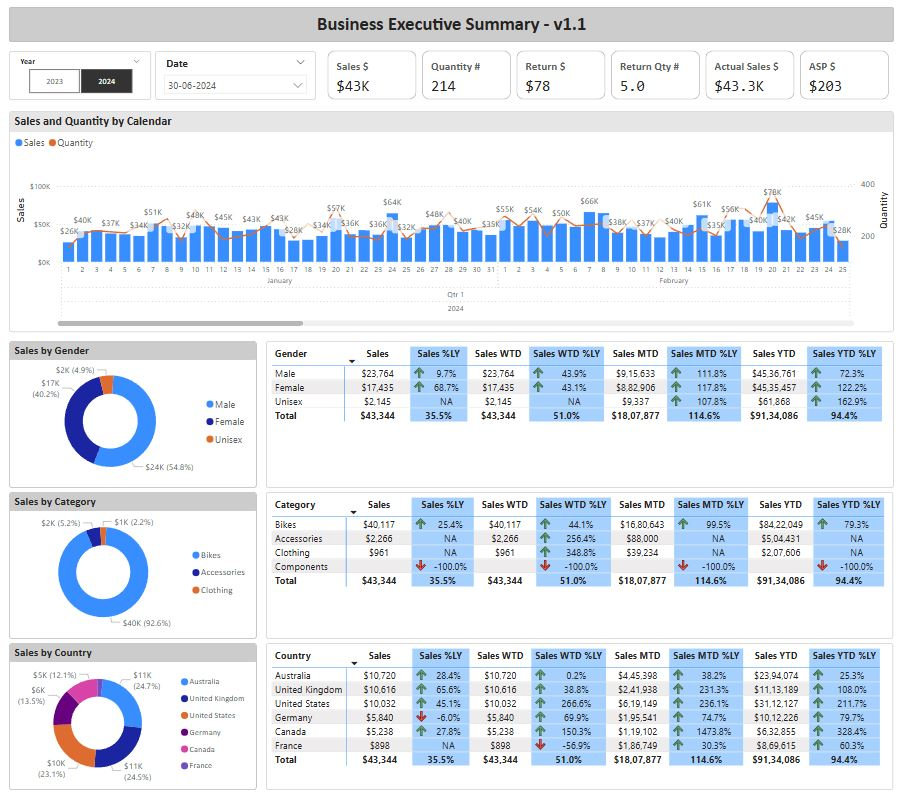

Layout of this report page (visuals, bound fields, positions):
{"tool":"powerbi","page":{"name":"Executive Summary v1.1","canvas":[1300,1500],"ordinal":1},"visuals":[{"type":"lineStackedColumnComboChart","title":"Sales and Quantity by Calendar","fields":{"Category":["AW_Calendar.Date.Variation.Date Hierarchy.Year","AW_Calendar.Date.Variation.Date Hierarchy.Quarter","AW_Calendar.Date.Variation.Date Hierarchy.Month","AW_Calendar.Date.Variation.Date Hierarchy.Day"],"Y":["All_Measures.Total_Sales_CY"],"Y2":["All_Measures.Total_Qty_CY"]},"box":[18.6,165.7,1264.3,315.7],"z":0},{"type":"slicer","fields":{"Values":["AW_Calendar.Year"]},"box":[18.6,80,202.9,70],"z":1000},{"type":"textbox","box":[18.6,17.1,1264.3,50],"z":2000},{"type":"donutChart","fields":{"Category":["AW_Customers.Gender"],"Y":["All_Measures.Total_Sales_CY"]},"box":[18.6,494.3,354.3,210],"z":3000},{"type":"donutChart","fields":{"Category":["AW_Product_Category.CategoryName"],"Y":["All_Measures.Total_Sales_CY"]},"box":[18.6,710,354.3,210],"z":4000},{"type":"donutChart","fields":{"Category":["AW_Territories.Country"],"Y":["All_Measures.Total_Sales_CY"]},"box":[18.6,925.7,354.3,210],"z":5000},{"type":"slicer","fields":{"Values":["AW_Calendar.Date"]},"box":[227.1,80,230,70],"z":6000},{"type":"pivotTable","fields":{"Values":["All_Measures.Total_Sales_CY","All_Measures.Total_Sales_PoP%","All_Measures.Total_Sales_WTD_CY","All_Measures.Total_Sales_WTD_PoP%","All_Measures.Total_Sales_MTD_CY","All_Measures.Total_Sales_MTD_PoP%","All_Measures.Total_Sales_YTD_CY","All_Measures.Total_Sales_YTD_PoP%"],"Rows":["AW_Customers.Gender"]},"box":[385.7,494.3,897.1,210],"z":7000},{"type":"donutChart","fields":{"Category":["AW_Product_Subcategory.SubcategoryName"],"Y":["All_Measures.Total_Sales_CY"]},"box":[18.6,1142.9,354.3,338.6],"z":8000},{"type":"cardVisual","fields":{"Data":["All_Measures.Total_Sales_CY","All_Measures.Total_Qty_CY","All_Measures.Return_Amount_CY","All_Measures.Return_Qty_CY","All_Measures.Actual_Sales_CY","All_Measures.ASP_CY"]},"box":[468.6,74.3,814.3,80],"z":9000},{"type":"pivotTable","fields":{"Values":["All_Measures.Total_Sales_CY","All_Measures.Total_Sales_PoP%","All_Measures.Total_Sales_WTD_CY","All_Measures.Total_Sales_WTD_PoP%","All_Measures.Total_Sales_MTD_CY","All_Measures.Total_Sales_MTD_PoP%","All_Measures.Total_Sales_YTD_CY","All_Measures.Total_Sales_YTD_PoP%"],"Rows":["AW_Product_Category.CategoryName"]},"box":[386.2,710,896.2,210],"z":10000},{"type":"pivotTable","fields":{"Values":["All_Measures.Total_Sales_CY","All_Measures.Total_Sales_PoP%","All_Measures.Total_Sales_WTD_CY","All_Measures.Total_Sales_WTD_PoP%","All_Measures.Total_Sales_MTD_CY","All_Measures.Total_Sales_MTD_PoP%","All_Measures.Total_Sales_YTD_CY","All_Measures.Total_Sales_YTD_PoP%"],"Rows":["AW_Territories.Country"]},"box":[386.2,926.2,896.2,210],"z":11000},{"type":"pivotTable","fields":{"Values":["All_Measures.Total_Sales_CY","All_Measures.Total_Sales_PoP%","All_Measures.Total_Sales_WTD_CY","All_Measures.Total_Sales_WTD_PoP%","All_Measures.Total_Sales_MTD_CY","All_Measures.Total_Sales_MTD_PoP%","All_Measures.Total_Sales_YTD_CY","All_Measures.Total_Sales_YTD_PoP%"],"Rows":["AW_Product_Subcategory.SubcategoryName"]},"box":[386.2,1142.5,896.2,338.8],"z":12000}]}

Visuals, with their boxes on the page's 1300x1500 design canvas (x1, y1, x2, y2). These are canvas units, not pixel positions in the 901x794 screenshot, which may show the page scaled, cropped or inside an application window:
"Sales and Quantity by Calendar" lineStackedColumnComboChart: l=19, t=166, r=1283, b=481
slicer - AW_Calendar.Year: l=19, t=80, r=222, b=150
textbox: l=19, t=17, r=1283, b=67
donutChart - AW_Customers.Gender x All_Measures.Total_Sales_CY: l=19, t=494, r=373, b=704
donutChart - AW_Product_Category.CategoryName x All_Measures.Total_Sales_CY: l=19, t=710, r=373, b=920
donutChart - AW_Territories.Country x All_Measures.Total_Sales_CY: l=19, t=926, r=373, b=1136
slicer - AW_Calendar.Date: l=227, t=80, r=457, b=150
pivotTable - All_Measures.Total_Sales_CY x All_Measures.Total_Sales_PoP%: l=386, t=494, r=1283, b=704
donutChart - AW_Product_Subcategory.SubcategoryName x All_Measures.Total_Sales_CY: l=19, t=1143, r=373, b=1482
cardVisual - All_Measures.Total_Sales_CY x All_Measures.Total_Qty_CY: l=469, t=74, r=1283, b=154
pivotTable - All_Measures.Total_Sales_CY x All_Measures.Total_Sales_PoP%: l=386, t=710, r=1282, b=920
pivotTable - All_Measures.Total_Sales_CY x All_Measures.Total_Sales_PoP%: l=386, t=926, r=1282, b=1136
pivotTable - All_Measures.Total_Sales_CY x All_Measures.Total_Sales_PoP%: l=386, t=1142, r=1282, b=1481
